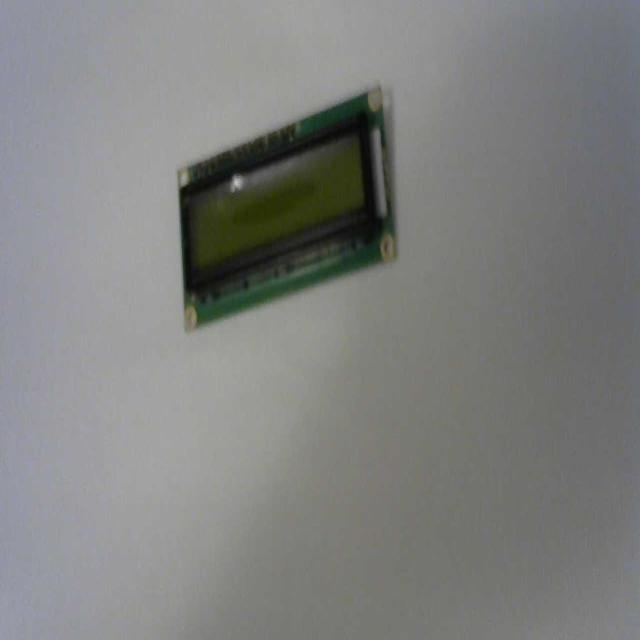lcd: (175, 80, 398, 333)
